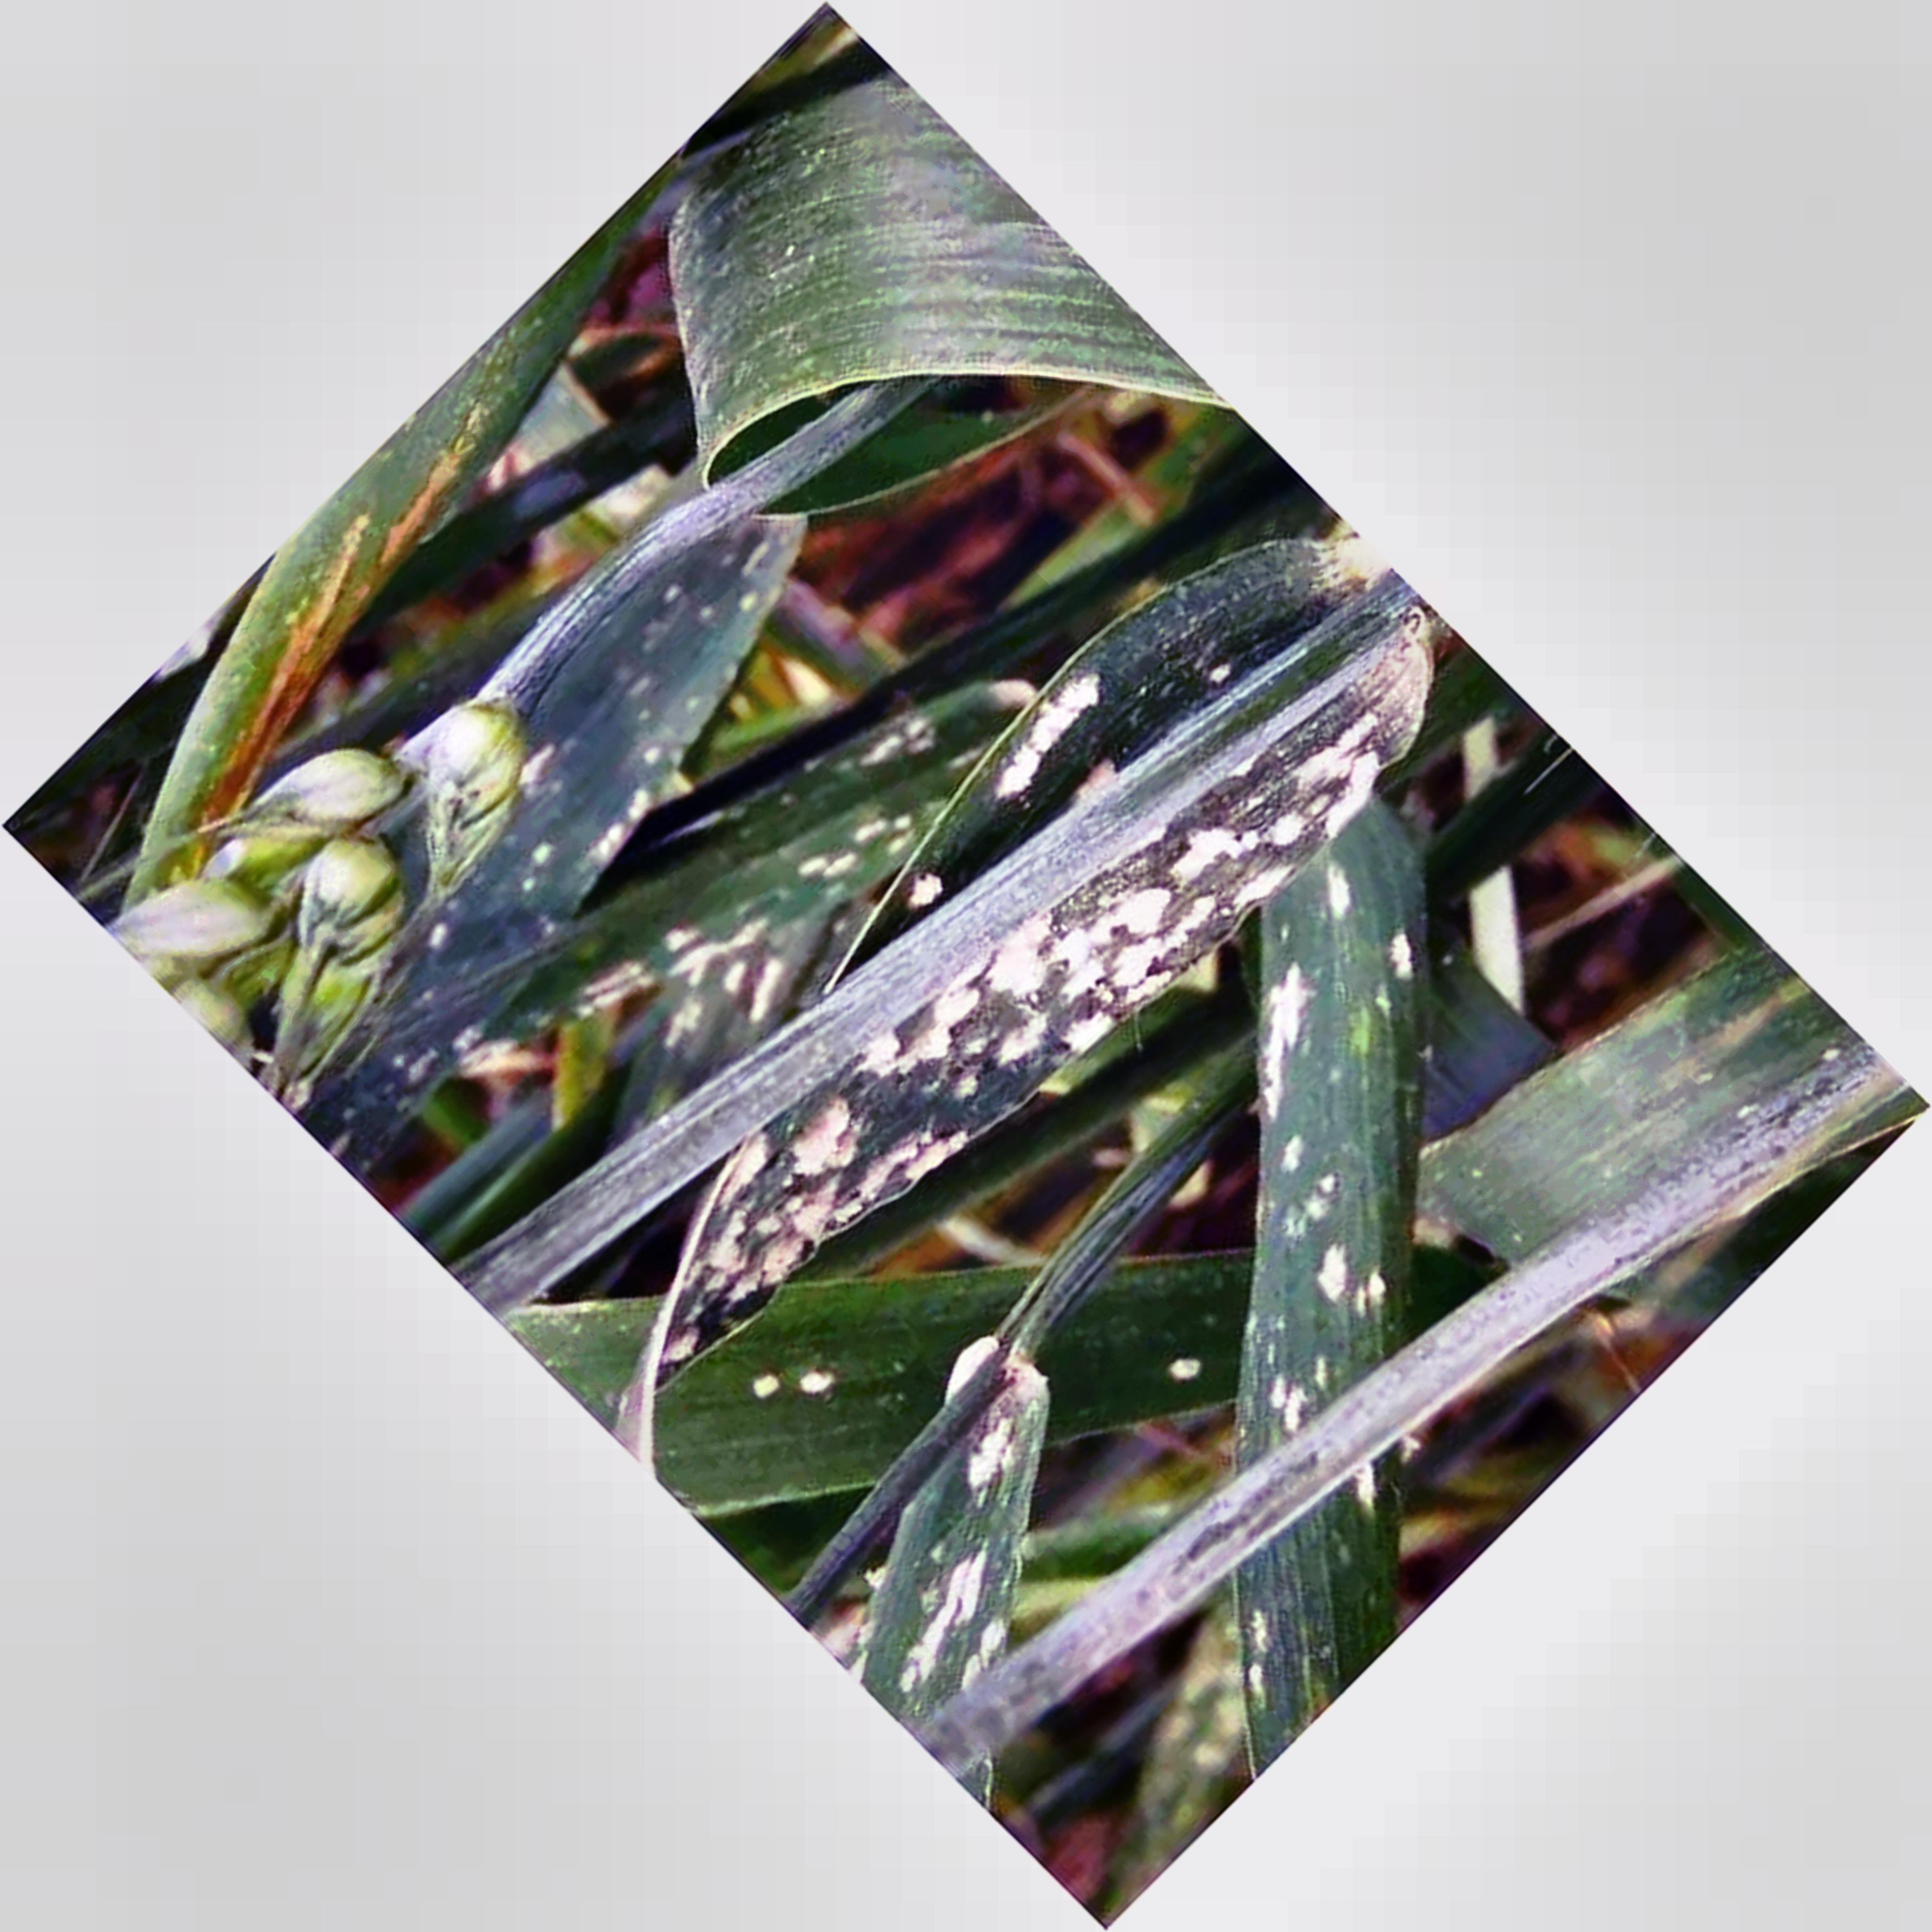Powdery Mildew: (701, 725, 1359, 1315)
